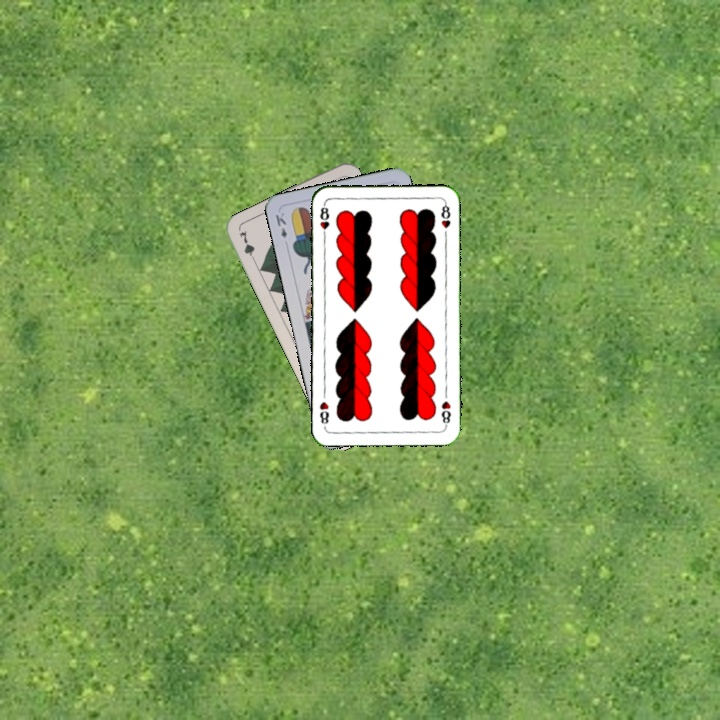EK: (271, 208, 290, 241)
G7: (235, 226, 259, 266)
H8: (316, 200, 332, 241), (437, 397, 454, 429)
